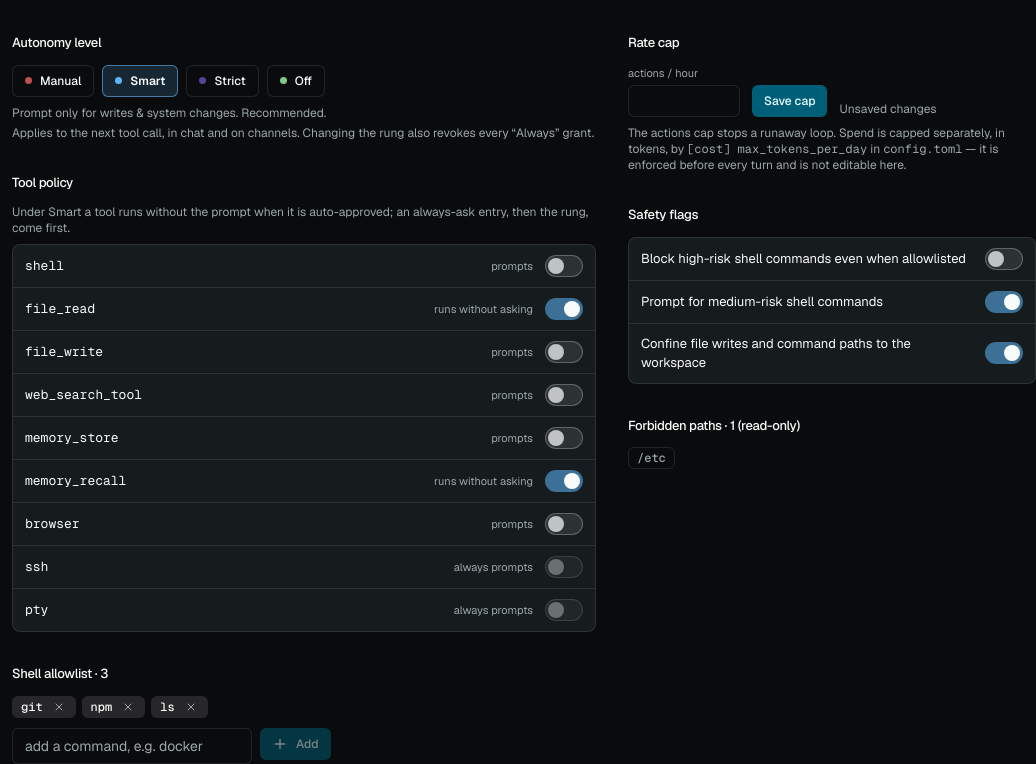
ToolsPanel allowlist › stores the basename and names it in the toast
The width and height of the screenshot is (1036, 764).
(page scrolled)
Check: the text "Prompt only for writes & system changes. Recommended." is shown, box [12, 104, 326, 120]
Type "/opt/bin/docker" into the field with placeholder "add a command, e.g. docker" at (132, 746), box [12, 728, 252, 763]
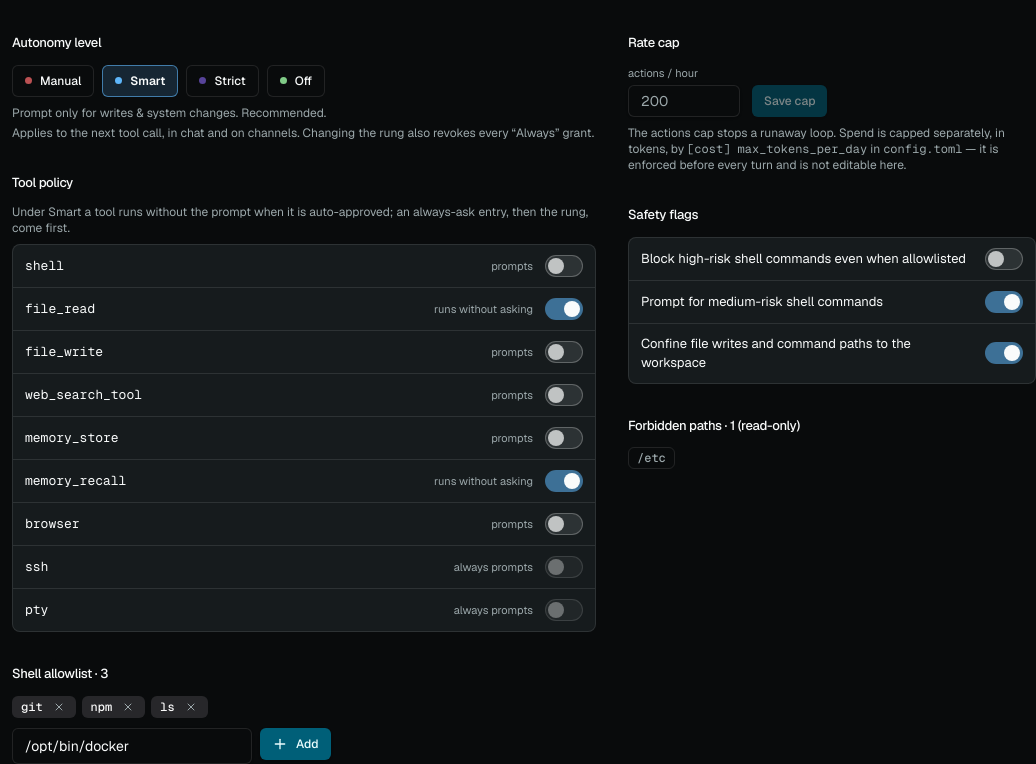
Press Enter in the field named "Command to allow", box [12, 728, 252, 763]
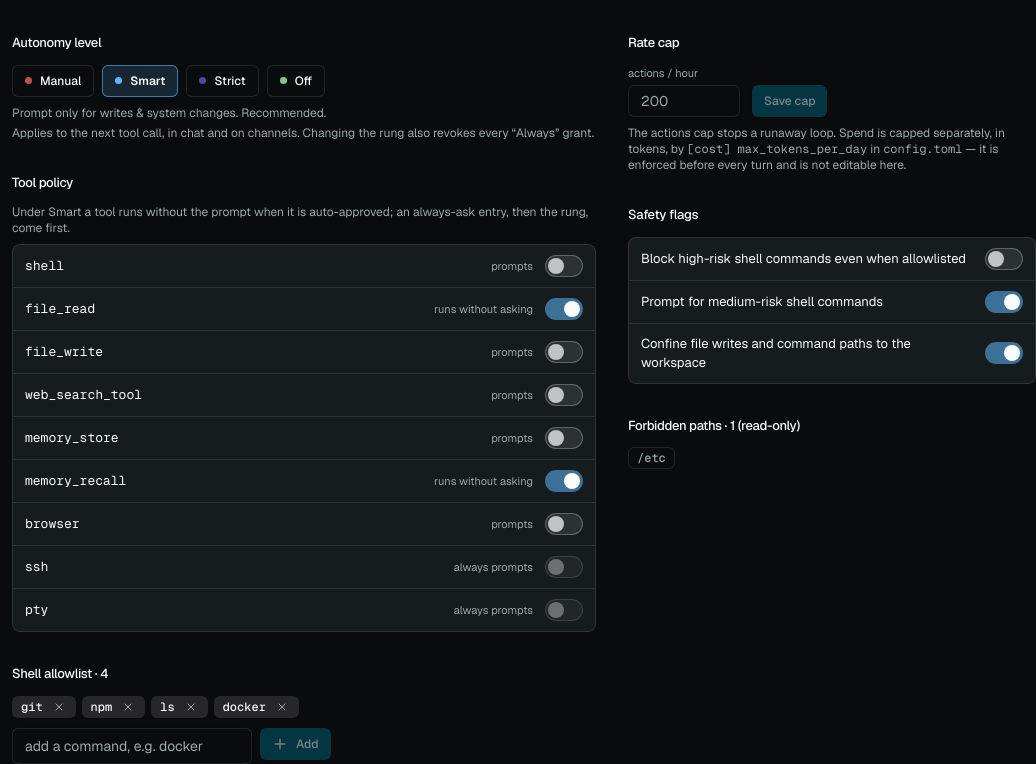
Check: the button named "Remove docker" is shown, box [272, 696, 292, 716]
